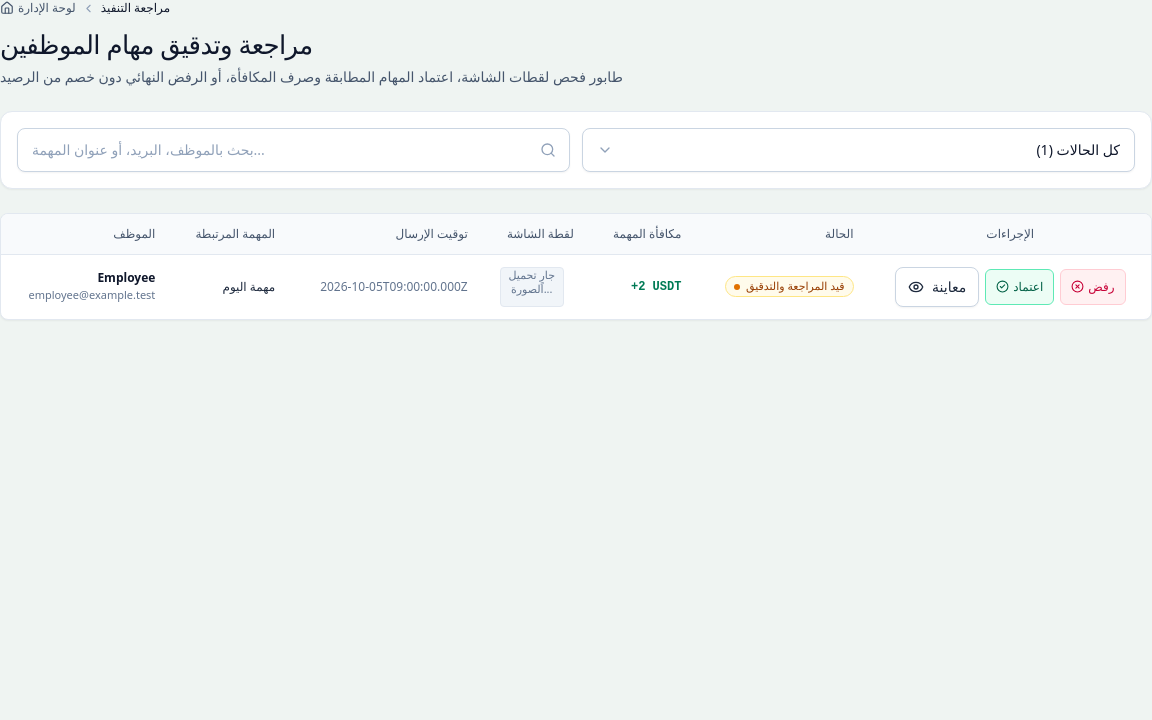
Test case: shows captured entitlement and bounded evidence pages without changing the current decision versions
Click the button "معاينة": (937, 287) x1=895 y1=267 x2=979 y2=307
(page scrolled)
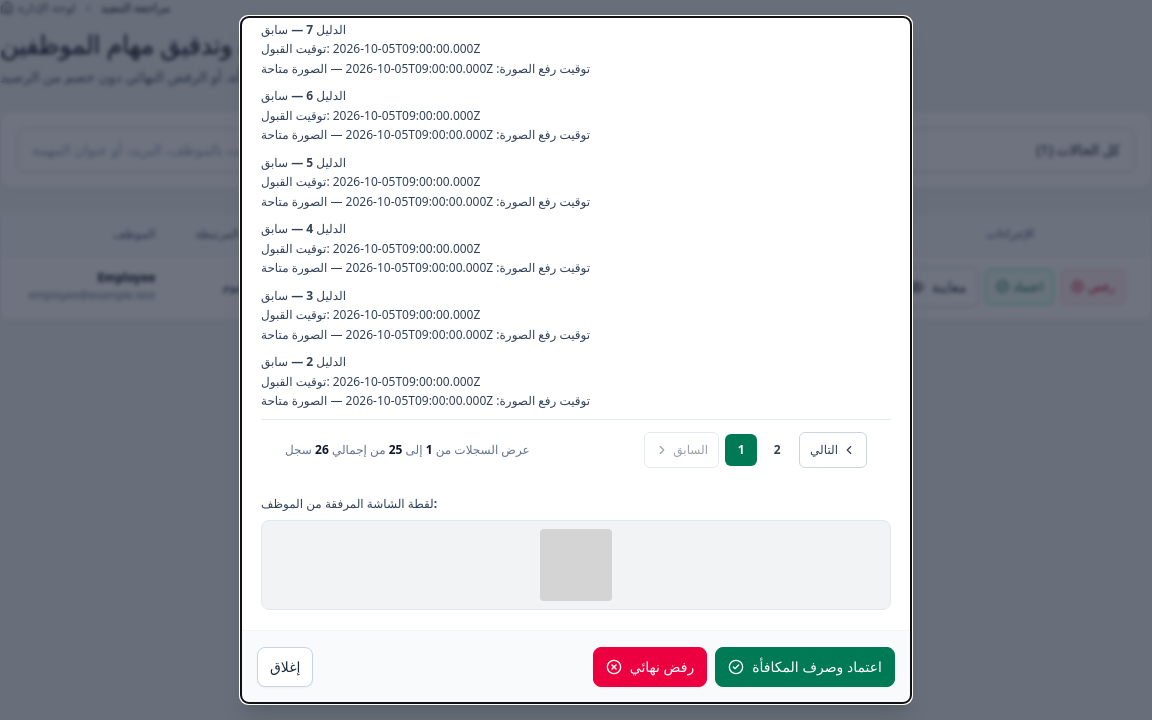
Click the button "التالي": (833, 450) x1=799 y1=432 x2=867 y2=468
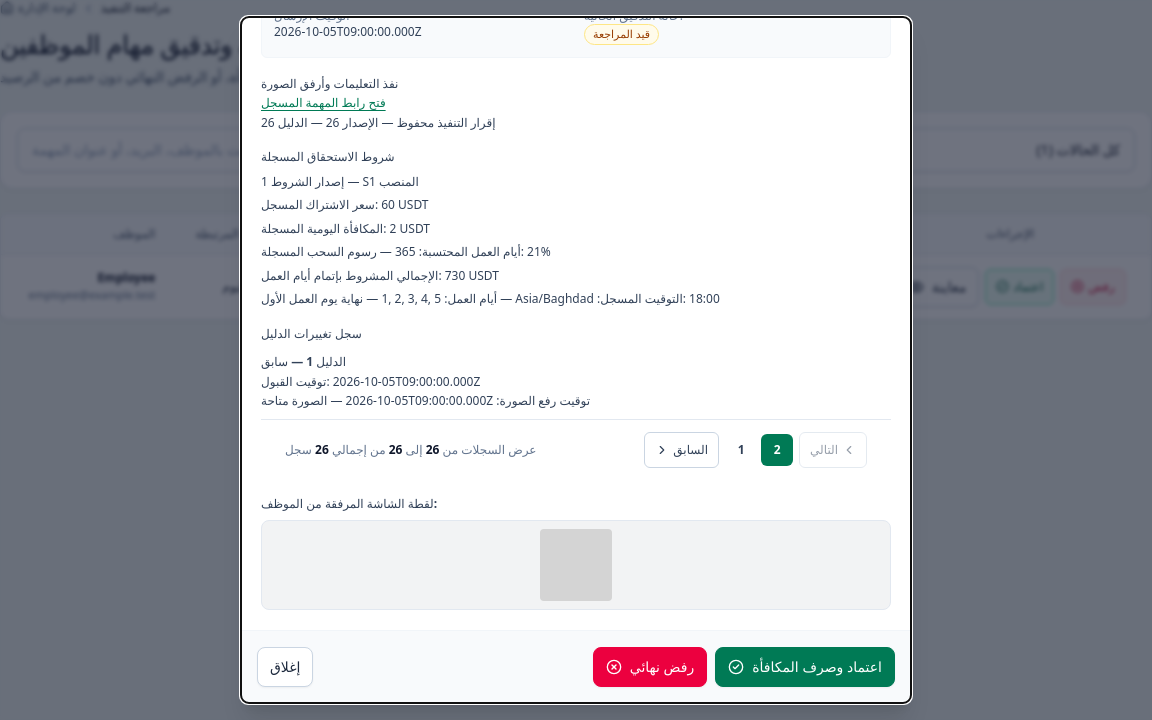
Check: the button "اعتماد وصرف المكافأة" is enabled
Check: the text "الدليل 1 — سابق" is shown, box x1=261 y1=353 x2=346 y2=370
Click the button "اعتماد وصرف المكافأة": (805, 667) x1=715 y1=647 x2=895 y2=687
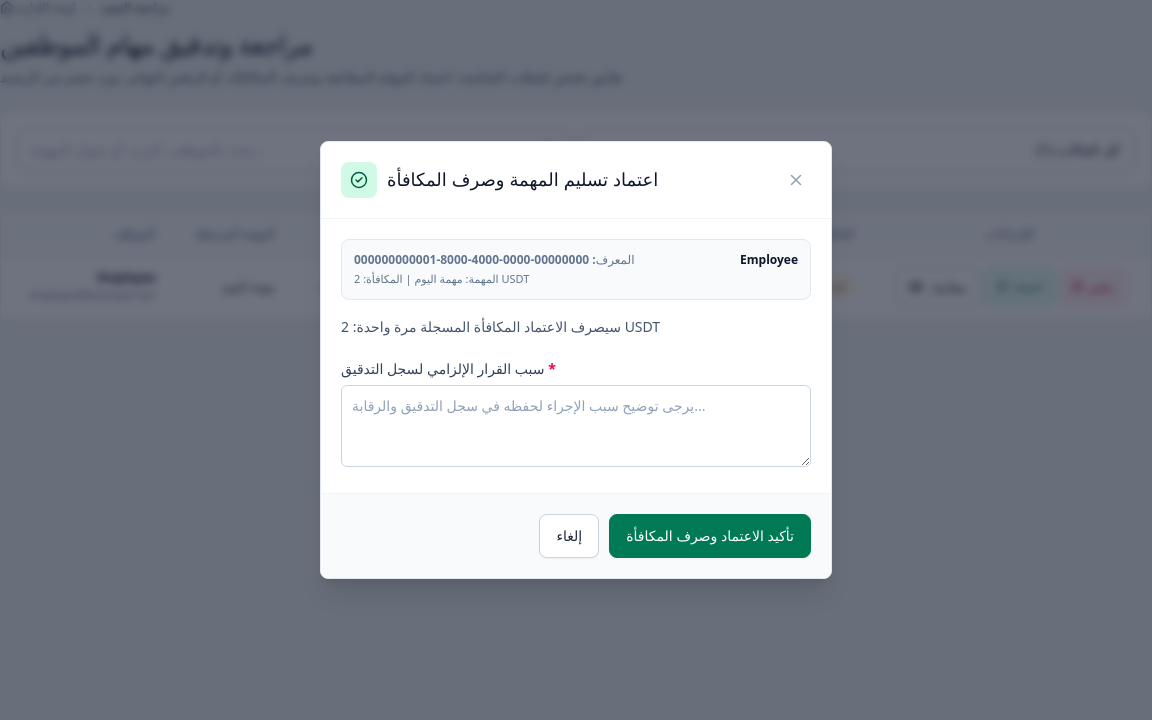
In the text box: (576, 426) x1=341 y1=385 x2=811 y2=467, type "مراجعة الدليل الحالي"
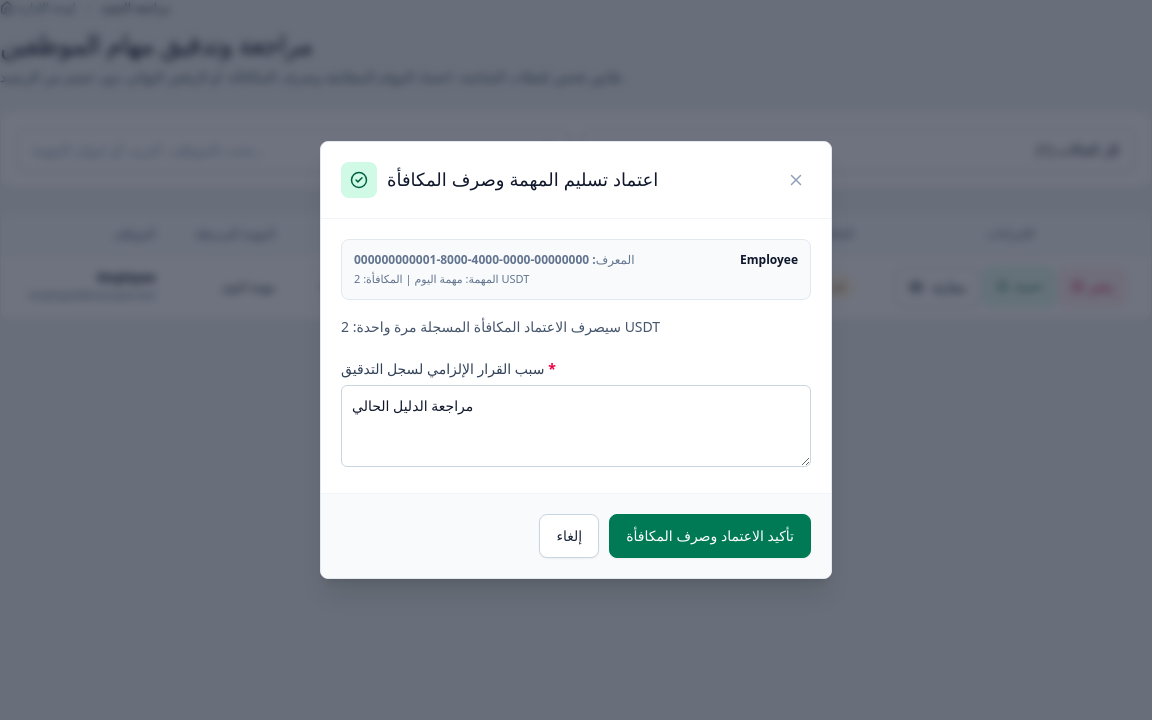
Click the button "تأكيد الاعتماد وصرف المكافأة": (710, 536) x1=609 y1=514 x2=811 y2=558
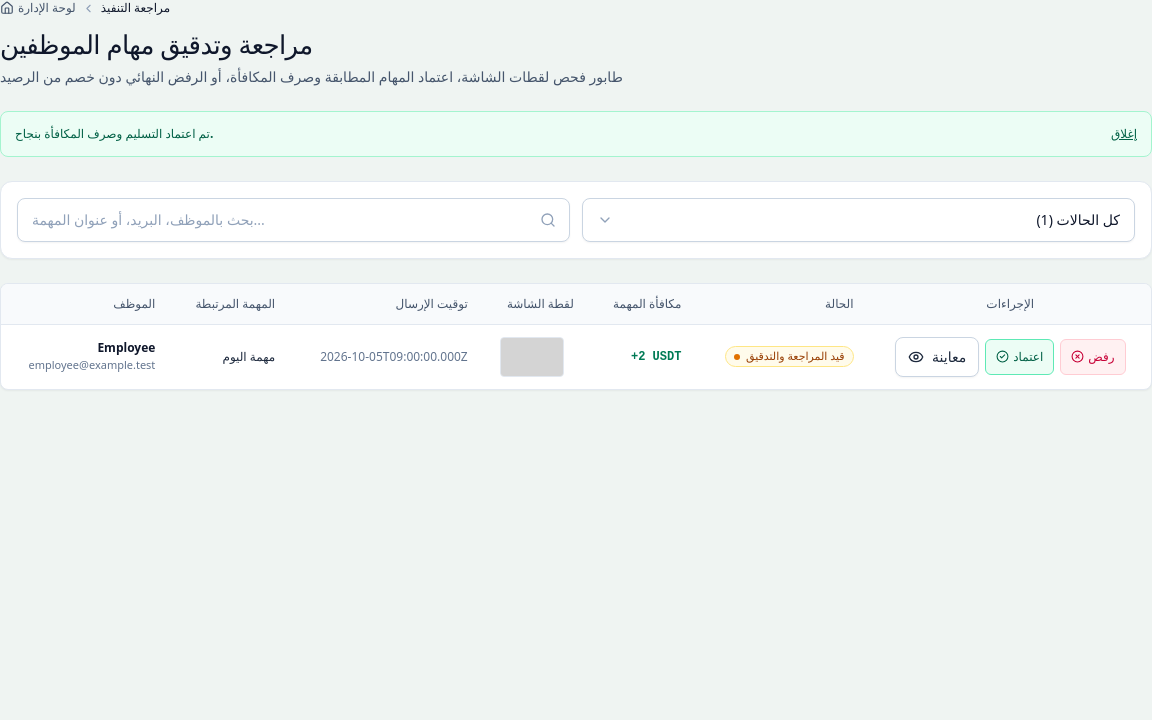
Check: the dialog is gone
